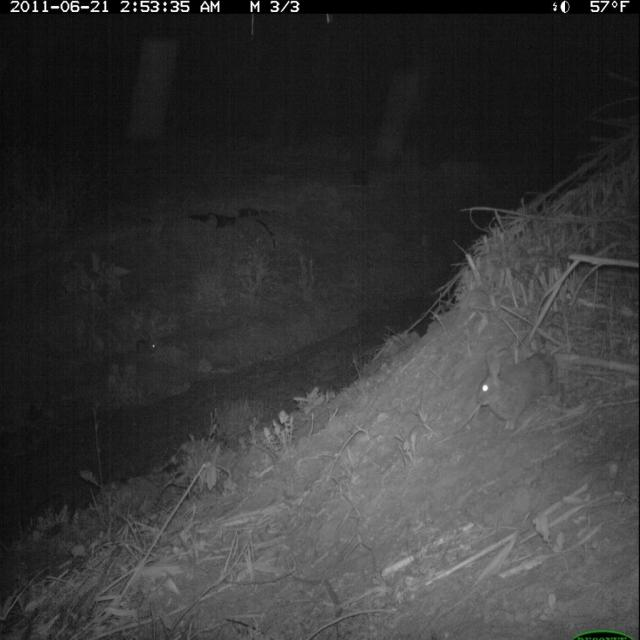rabbit: (473, 343, 558, 435)
